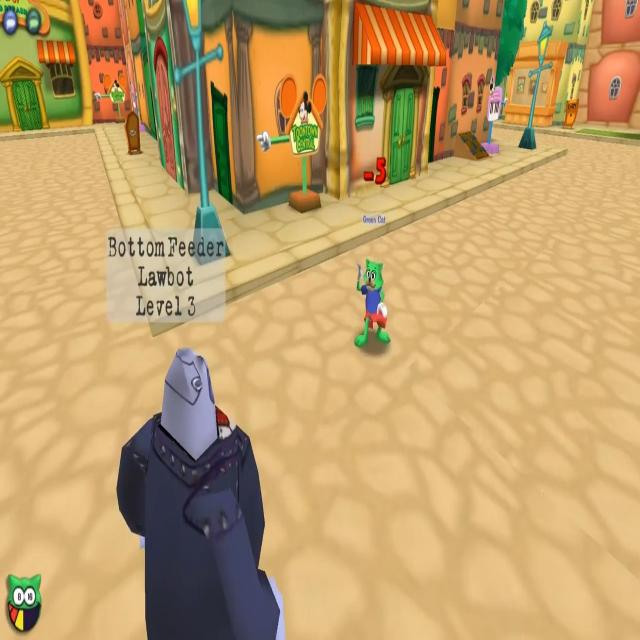bottomfeeder: (105, 232, 284, 640)
